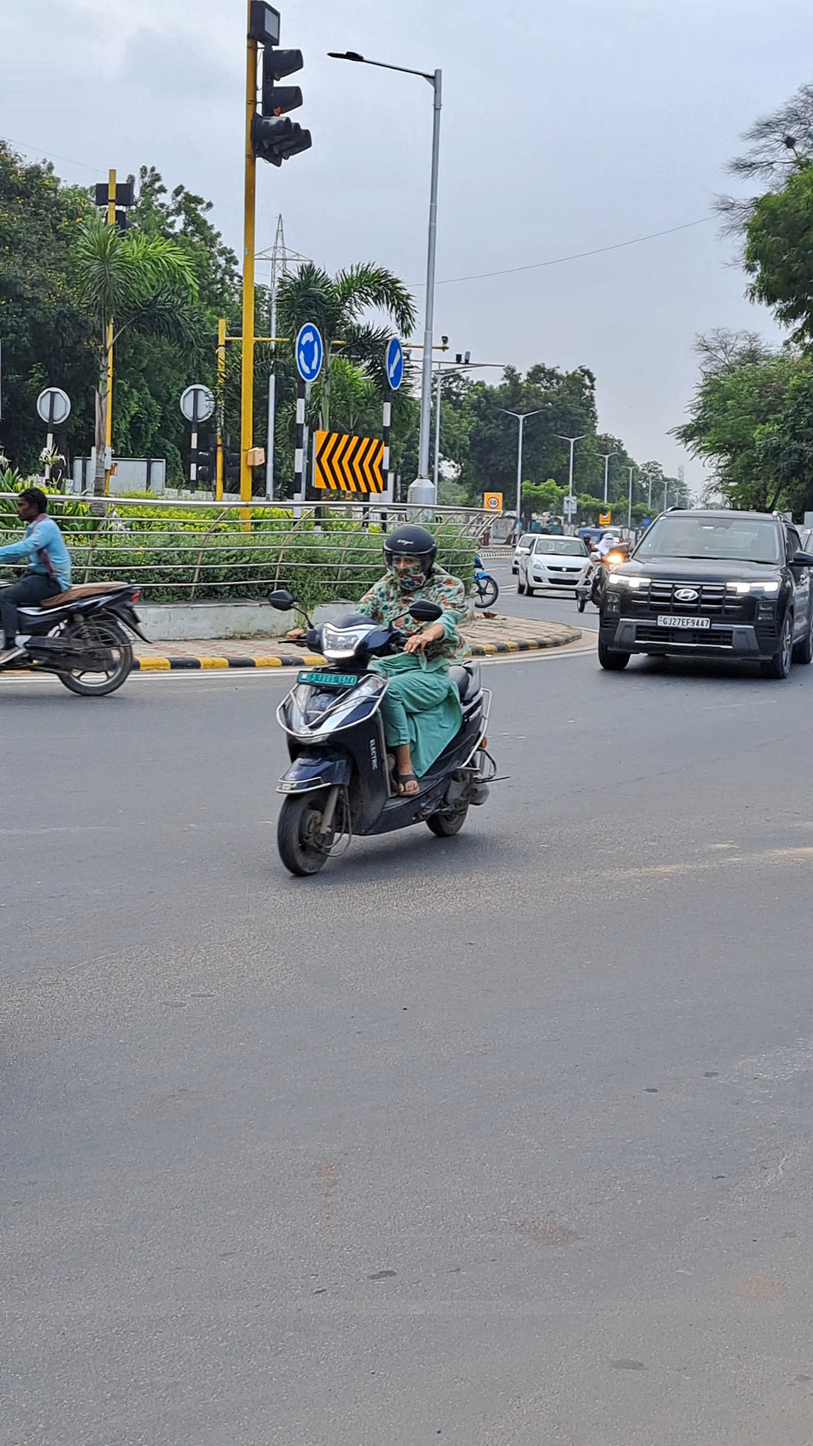BikeWithRider: (239, 502, 521, 891), (0, 458, 167, 721)
Helmet: (367, 524, 446, 580)
NoHelmet: (7, 477, 70, 524)
